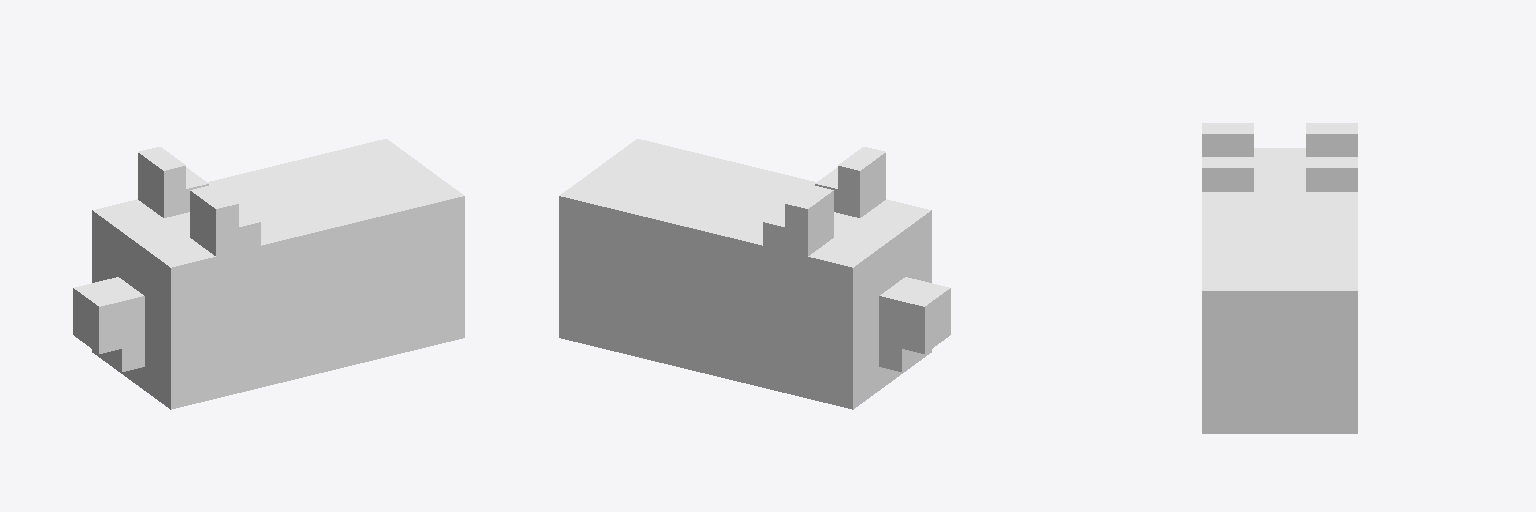
File: pesari_keho.obj
3 views of the same model, side by side, from view 1: azimuth 30°, elevation 25°; view 2: azimuth 150°, elevation 25°; view 3: azimuth 270°, elevation 25° (orthographic).
Size of the model in its own units: 15 by 8 by 6.